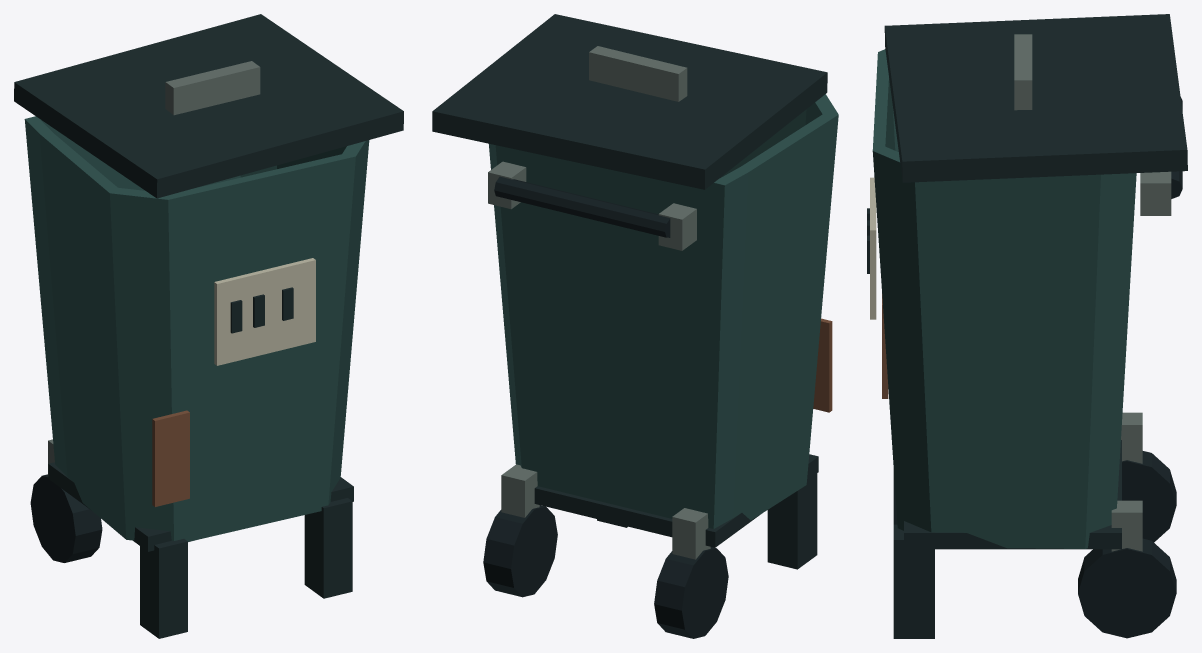
Rendered from lv119-dented-bin.glb.
3 views of the same model, side by side, from view 1: azimuth 30°, elevation 25°; view 2: azimuth 150°, elevation 25°; view 3: azimuth 270°, elevation 25° (orthographic). The views are drawn at different scales.
Visible parts, largest first — view 1: dented-bin; view 2: dented-bin; view 3: dented-bin.
Part boxes in pixels (bbox=[...]): dented-bin: bbox=[14, 14, 403, 638]; dented-bin: bbox=[432, 14, 838, 638]; dented-bin: bbox=[867, 14, 1187, 638].
Bounding box in the file's own units: 0.6897 × 1.14 × 0.618.
